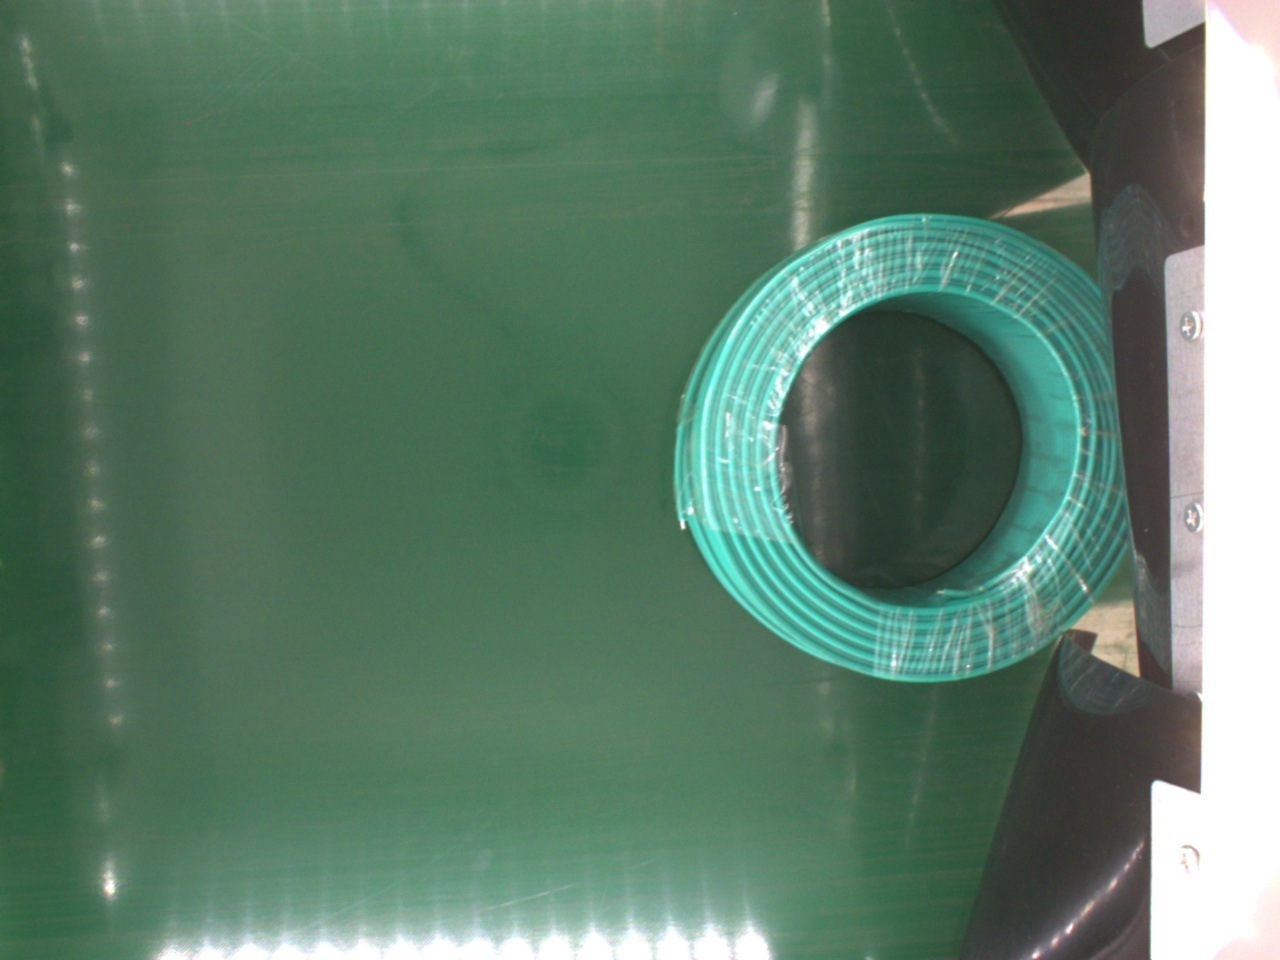green: (675, 220, 1132, 684)
